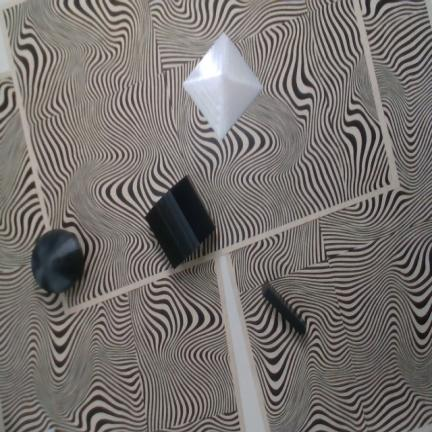Esfera: (31, 230, 83, 293)
Paralelepipedo: (261, 282, 306, 334)
Piramide: (183, 31, 262, 141)
Prisma_hexagonal: (145, 174, 217, 269)
